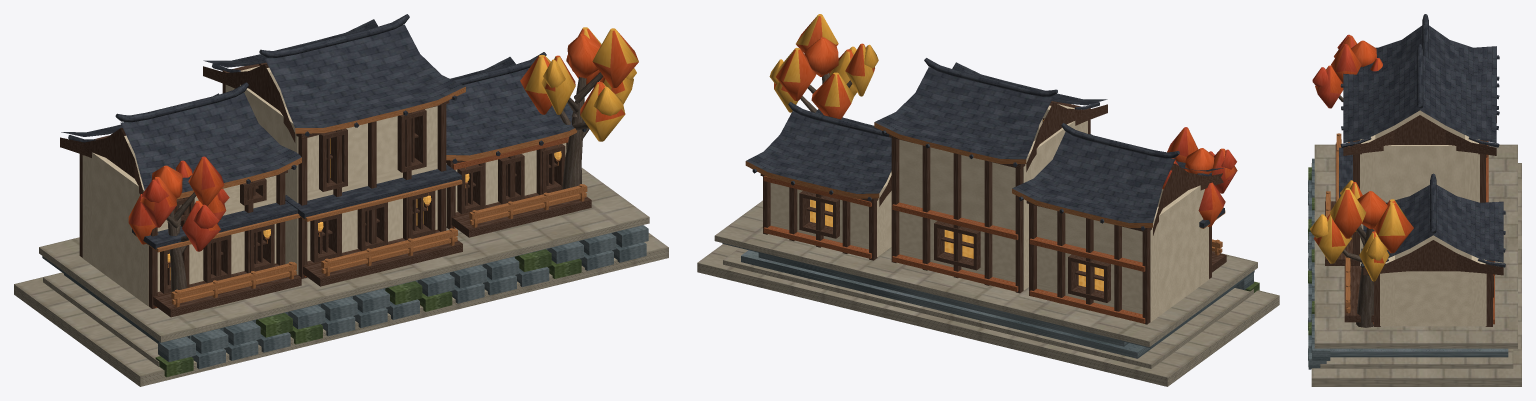
The model's file is kyoto_teahouse_row_mid.glb.
3 renders of one model, left to right at view 1: azimuth 30°, elevation 25°; view 2: azimuth 150°, elevation 25°; view 3: azimuth 270°, elevation 25°, orthographic. The views are drawn at different scales.
Parts seen in each view (by area): view 1: kyoto_teahouse_row_mid; view 2: kyoto_teahouse_row_mid; view 3: kyoto_teahouse_row_mid.
Boxes of the visible parts, <box> form: kyoto_teahouse_row_mid: <box>14,14,668,386</box>; kyoto_teahouse_row_mid: <box>697,14,1279,386</box>; kyoto_teahouse_row_mid: <box>1308,14,1521,386</box>.
Bounding box in the file's own units: 24 × 10.5 × 10.
2 materials, 2 textured.
